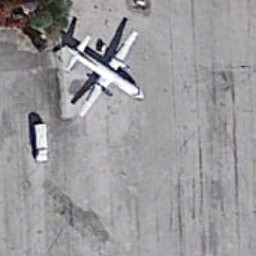Airplane: (53, 22, 157, 123)
